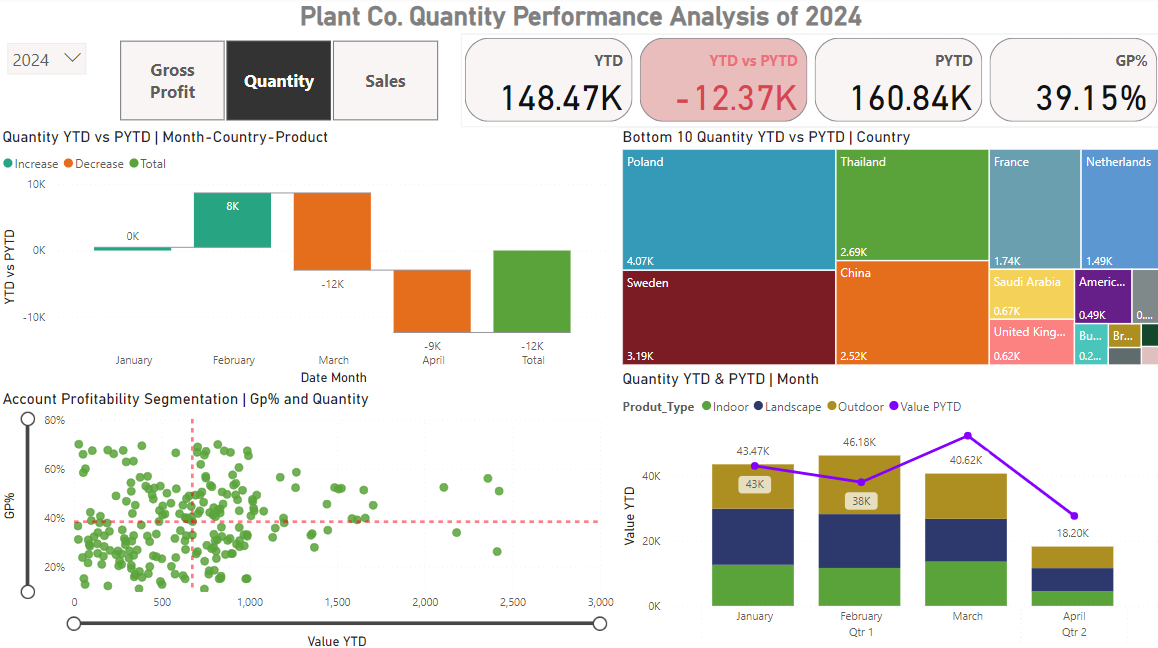

What the dashboard file says about the page in this screenshot:
{"tool":"powerbi","page":{"name":"Page 1","canvas":[1280,720],"ordinal":0},"visuals":[{"type":"cardVisual","fields":{"Data":["_Measures.S_YTD","_Measures.YTD vs PYTD","_Measures.S_PYTD","_Measures.GP%"]},"box":[507.7,41.2,772.6,102.9],"z":0},{"type":"slicer","fields":{"Values":["Slc_Values.Values"]},"box":[107,41.2,400.7,102.9],"z":1000},{"type":"slicer","fields":{"Values":["Dim_Date.Date.Variation.Date Hierarchy.Year"]},"box":[0,41.2,107,52.1],"z":2000},{"type":"treemap","fields":{"Values":["_Measures.YTD vs PYTD"],"Group":["Dim_Account.country"]},"box":[680.6,144.1,599.7,266.2],"z":3000},{"type":"waterfallChart","fields":{"Y":["_Measures.YTD vs PYTD"],"Category":["Dim_Date.Date.Variation.Date Hierarchy.Month","Dim_Account.country","Dim_Product.Produt_Type","Dim_Product.Product_Name"]},"box":[0,144.1,680.6,288.2],"z":4000},{"type":"lineStackedColumnComboChart","fields":{"Y":["_Measures.S_YTD"],"Y2":["_Measures.S_PYTD"],"Series":["Dim_Product.Produt_Type"],"Category":["Dim_Date.Date.Variation.Date Hierarchy.Quarter","Dim_Date.Date.Variation.Date Hierarchy.Month"]},"box":[680.6,410.3,599.7,310.1],"z":5000},{"type":"scatterChart","fields":{"Y":["_Measures.GP%"],"X":["_Measures.S_YTD"],"Category":["Dim_Account.Account"]},"box":[0,432.2,680.6,288.2],"z":6001},{"type":"card","fields":{"Values":["_Measures._Report title"]},"box":[0,0,1280.3,41.2],"z":6002}]}

Visuals, with their boxes in screenshot pixels (x1, y1, x2, y2), scaled from the page's 1280x720 canvas onto the 1158x648 screenshot:
cardVisual - _Measures.S_YTD x _Measures.YTD vs PYTD: bbox(459, 37, 1157, 130)
slicer - Slc_Values.Values: bbox(97, 37, 459, 130)
slicer - Dim_Date.Date.Variation.Date Hierarchy.Year: bbox(0, 37, 97, 84)
treemap - _Measures.YTD vs PYTD x Dim_Account.country: bbox(616, 130, 1157, 369)
waterfallChart - _Measures.YTD vs PYTD x Dim_Date.Date.Variation.Date Hierarchy.Month: bbox(0, 130, 616, 389)
lineStackedColumnComboChart - _Measures.S_YTD x _Measures.S_PYTD: bbox(616, 369, 1157, 647)
scatterChart - _Measures.GP% x _Measures.S_YTD: bbox(0, 389, 616, 647)
card - _Measures._Report title: bbox(0, 0, 1157, 37)
